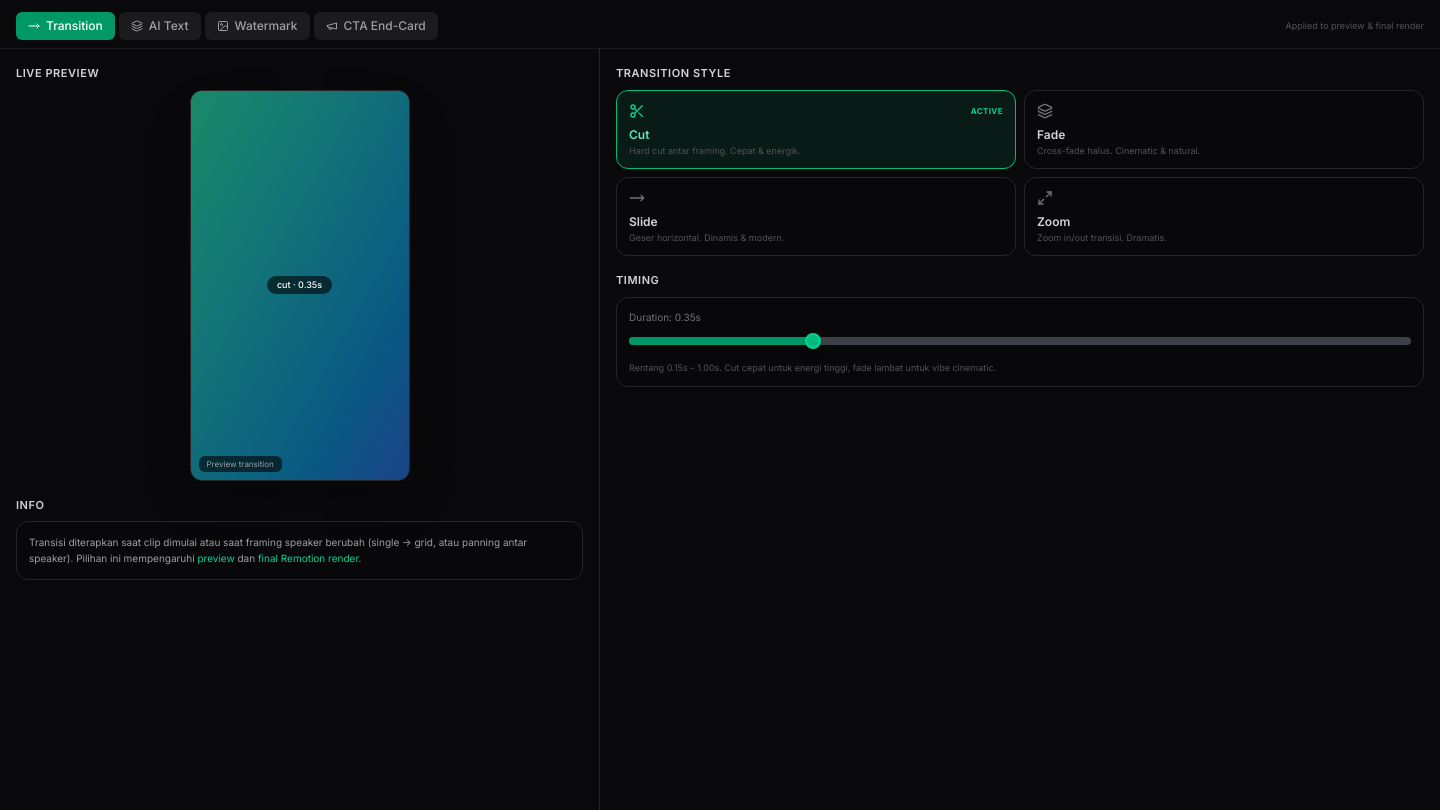
StyleEditorModal AI Text feature gate › enables AI Text when AI Cinematic Text is turned on
Click the button "AI Text" at (160, 26), box [119,12,200,40]
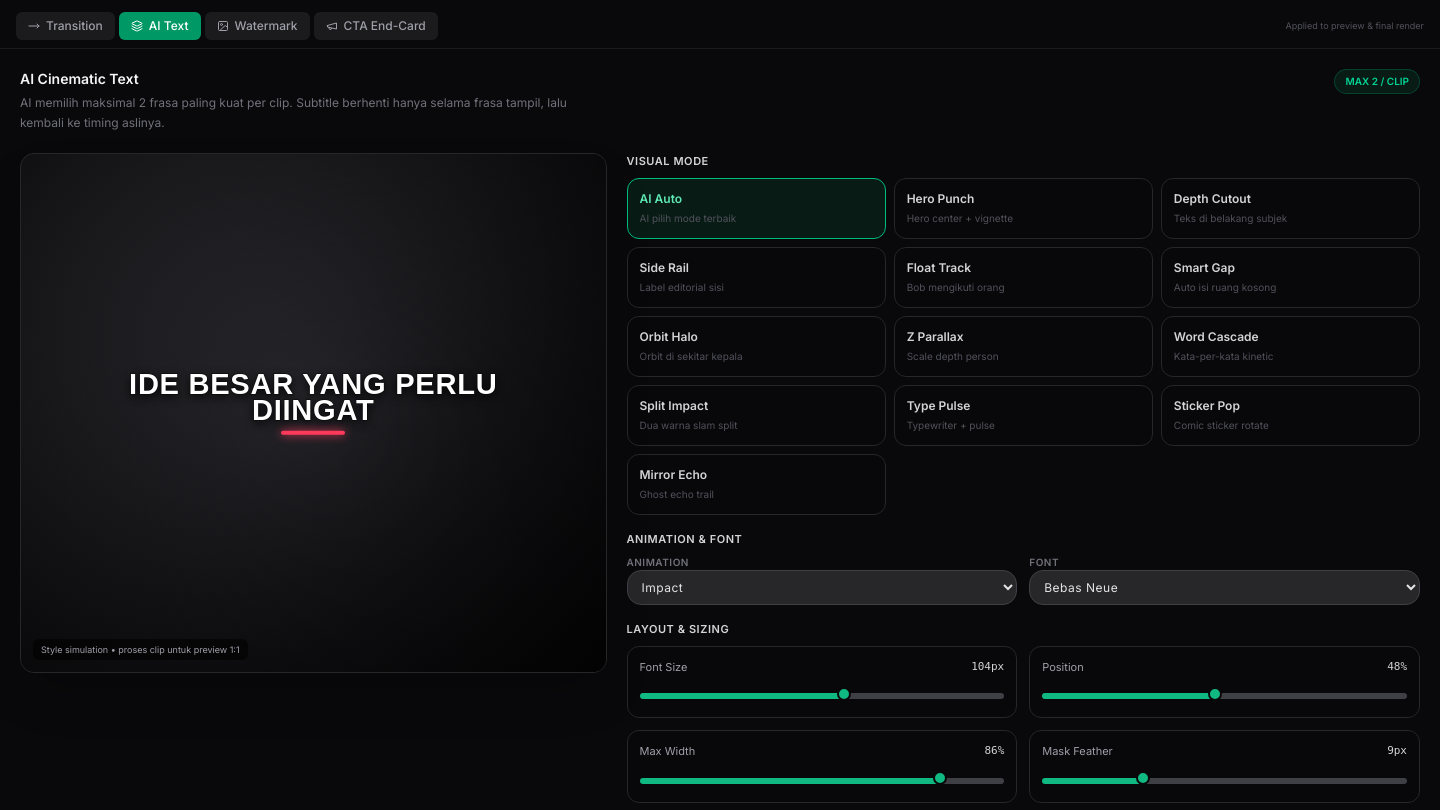
Result: the heading "AI Cinematic Text" is shown at [20,70,139,87]
